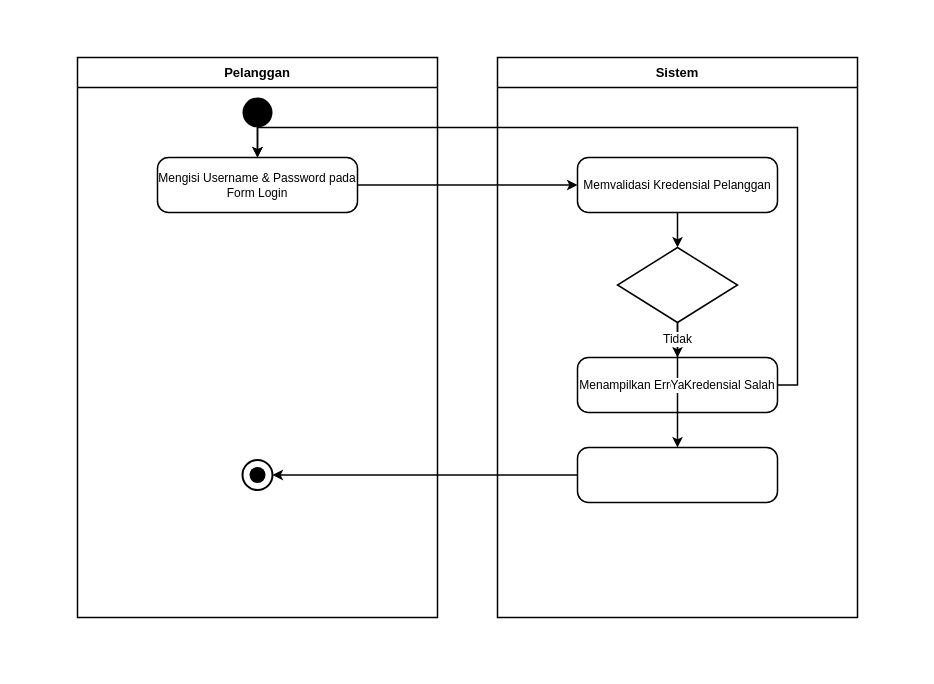
The diagram is 934 pixels wide and 684 high, and some of its shapes have lost their labels. Here are the shapes that lost their labels. From the top down, the centre of each, then its label:
point (677, 284): Kredensial Valid?
point (677, 474): Mengatur Session Pengguna dan Redirect ke Halaman Beranda/Katalog
